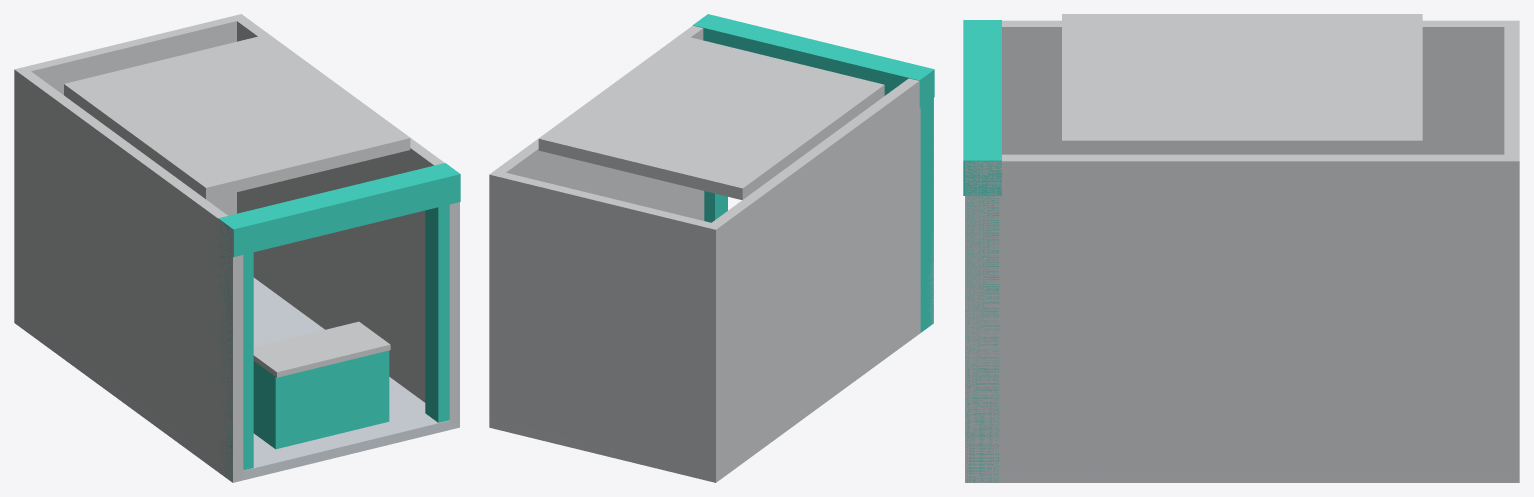
3 renders of one model, left to right at view 1: azimuth 30°, elevation 25°; view 2: azimuth 150°, elevation 25°; view 3: azimuth 270°, elevation 25°, orthographic. The views are drawn at different scales.
Parts seen in each view (by area): view 1: Exhibition Booth Concept; view 2: Exhibition Booth Concept; view 3: Exhibition Booth Concept.
Boxes of the visible parts, x1,y1,x2,y2 form: Exhibition Booth Concept: [14, 14, 460, 482]; Exhibition Booth Concept: [489, 14, 934, 482]; Exhibition Booth Concept: [963, 14, 1519, 482].
Bounding box in the file's own units: 3 × 3.34 × 5.02.
